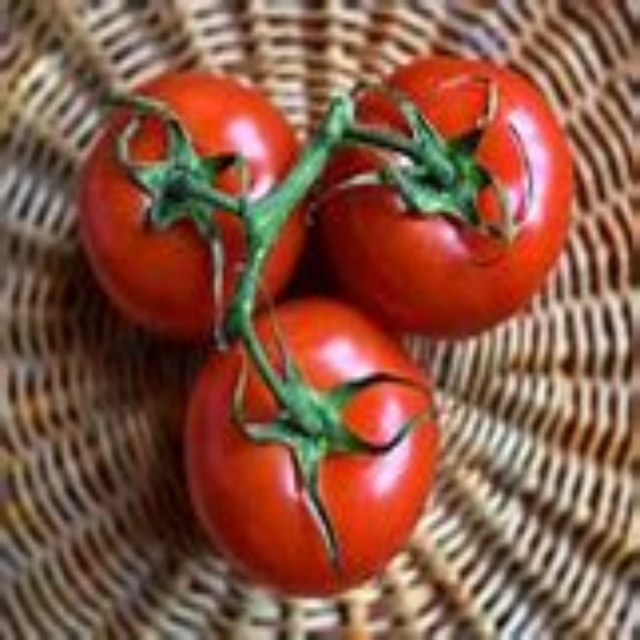tomato: (186, 307, 438, 589), (327, 60, 570, 338), (78, 76, 306, 335)
